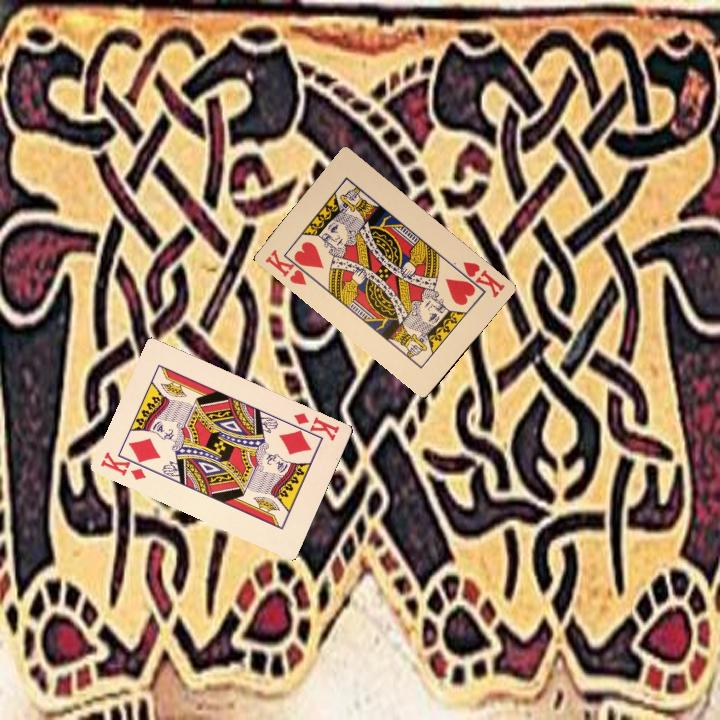Kd: (96, 448, 156, 483), (287, 408, 342, 444)
Kh: (453, 257, 507, 300), (261, 245, 314, 288)
